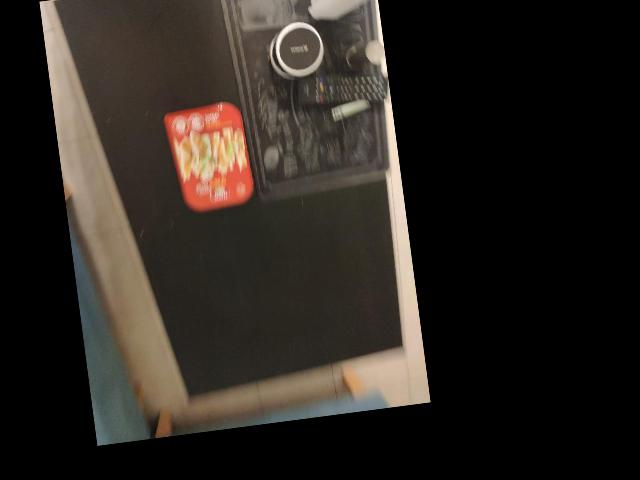cheese: (160, 101, 256, 215)
